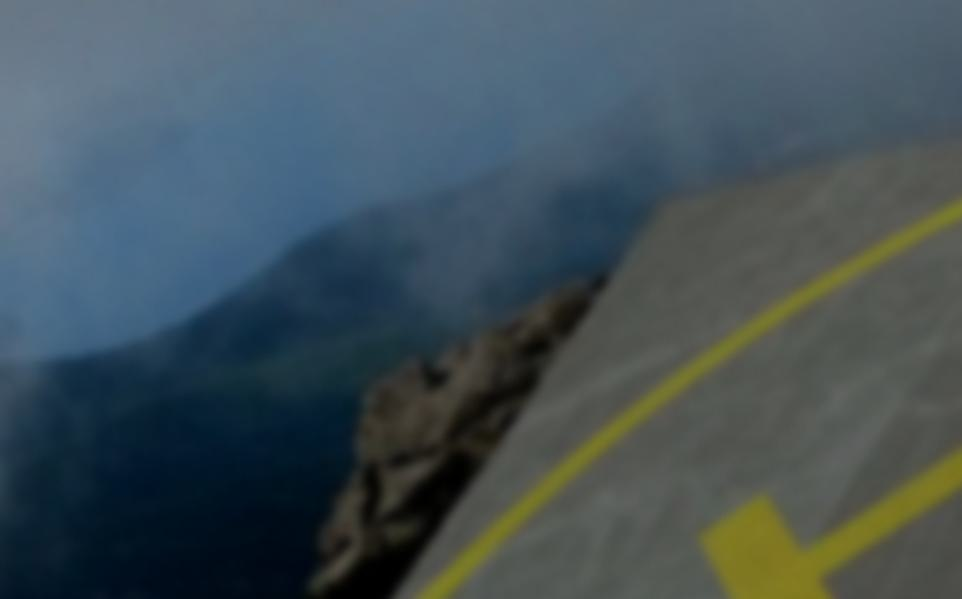Apron: (383, 182, 960, 599)
